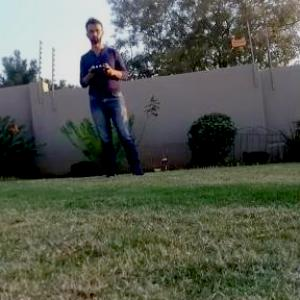follow: (77, 12, 152, 182)
